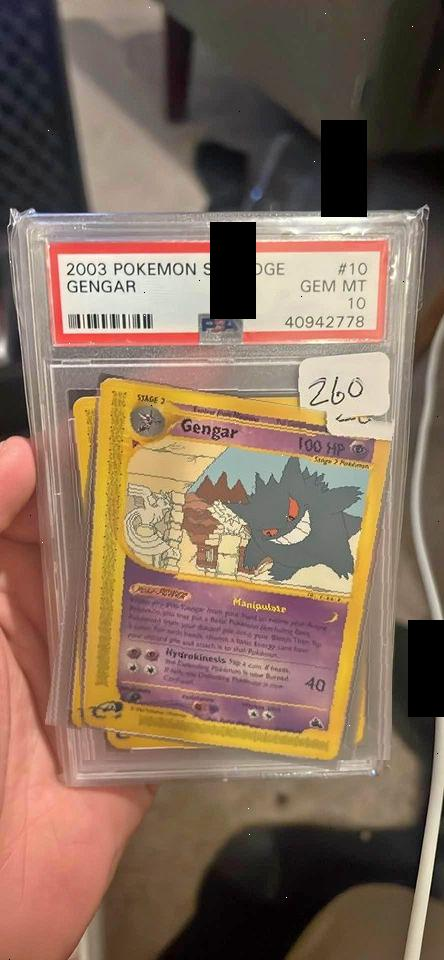card: (81, 376, 392, 760)
